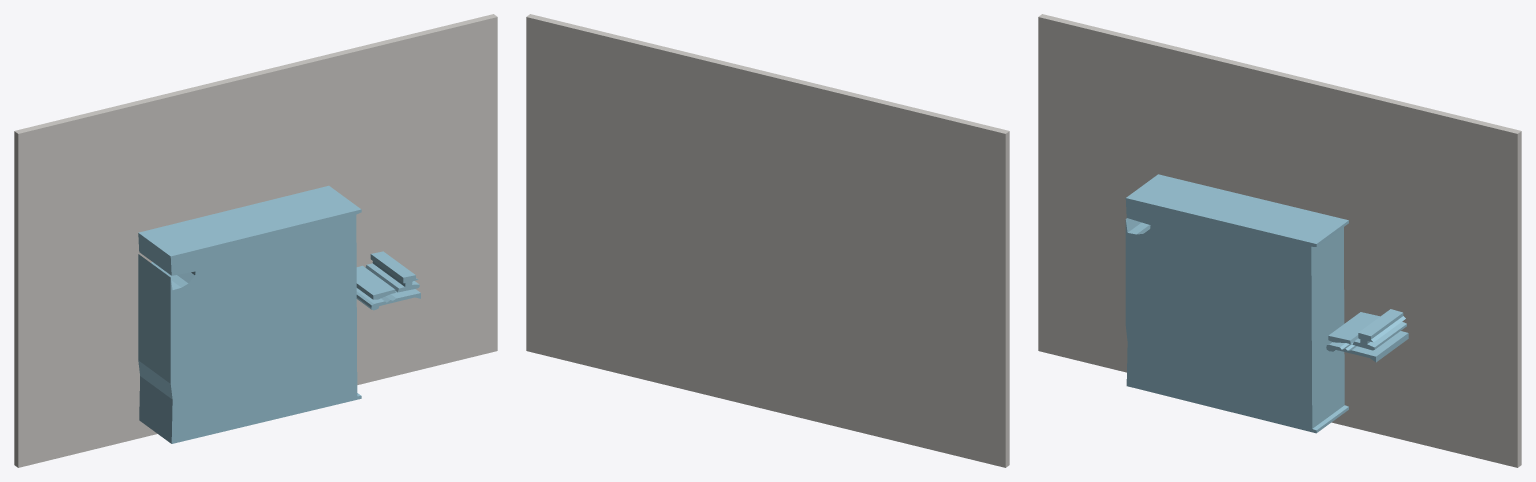
3 views of the same model, side by side, from view 1: azimuth 30°, elevation 25°; view 2: azimuth 150°, elevation 25°; view 3: azimuth 330°, elevation 25° (orthographic).
Parts seen in each view (by area): view 1: world; view 2: world; view 3: world.
Boxes of the visible parts, bbox=[...] form: world: bbox=[14, 14, 497, 467]; world: bbox=[526, 14, 1009, 467]; world: bbox=[1038, 14, 1521, 467].
Bounding box in the file's own units: 10.23 × 6.81 × 1.35.
